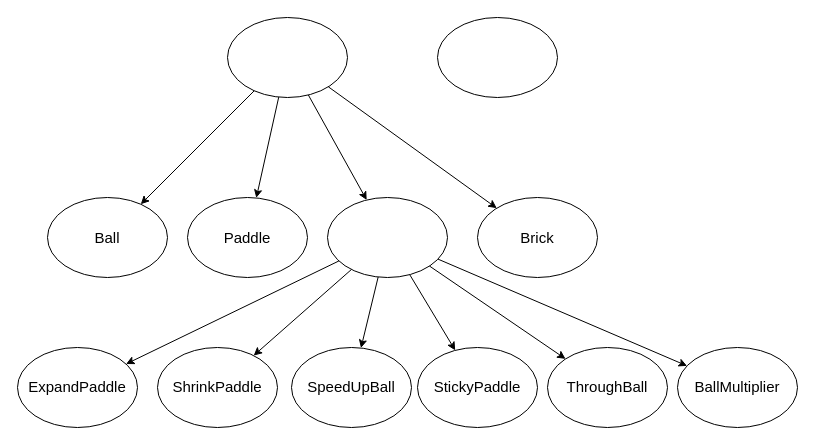
The diagram is 815 pixels wide and 445 high, and some of its shapes have lost their labels. Each missing label, with the centre of its shape:
Game: the point at 497,57
GenericObject: the point at 287,57
GenericPowerUp: the point at 387,237
